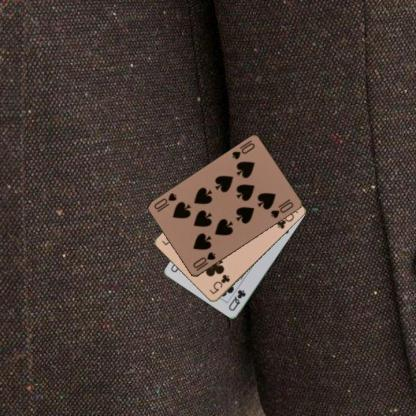10s: (229, 140, 256, 162), (190, 249, 217, 270)
5c: (206, 272, 231, 296)
Qc: (226, 287, 247, 313)
